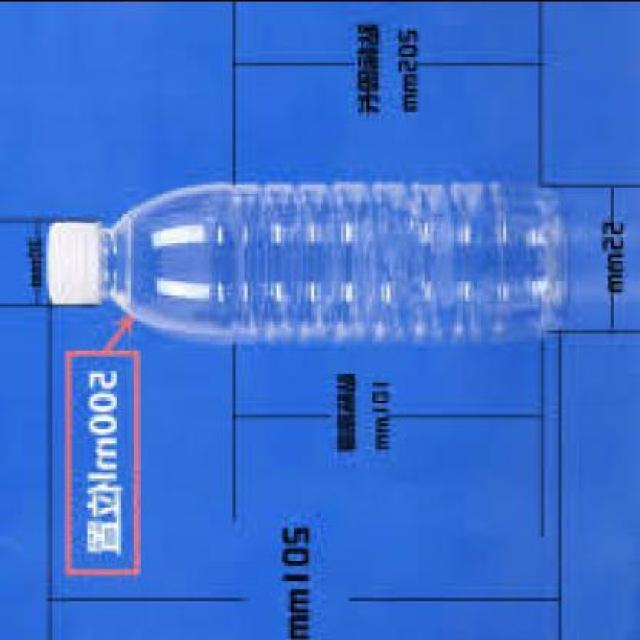PLASTIC: (44, 178, 561, 332), (41, 215, 105, 300)
